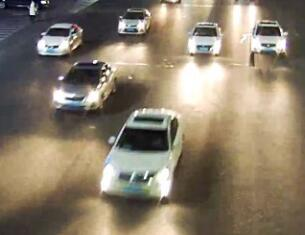car: (100, 108, 183, 199), (52, 60, 116, 114), (36, 22, 83, 56), (248, 19, 288, 58), (185, 21, 222, 56), (116, 6, 152, 35)
